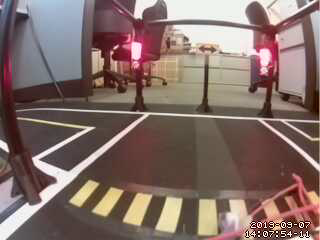Left_Right_sign: (195, 39, 225, 57)
Traffic_light_red: (131, 40, 142, 71), (260, 49, 273, 75)
